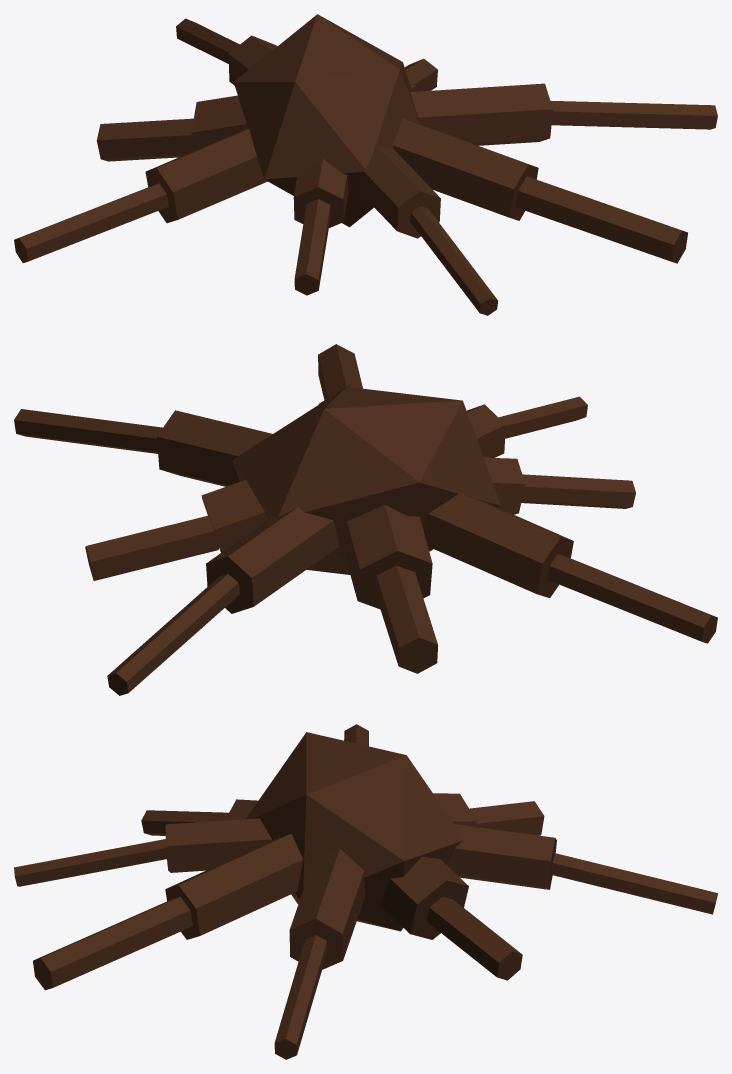
File: root_cluster_b.glb
3 views of the same model, one above another, from view 1: azimuth 30°, elevation 25°; view 2: azimuth 150°, elevation 25°; view 3: azimuth 270°, elevation 25° (orthographic). The views are drawn at different scales.
Visible parts, largest first — view 1: Root_Knot.001, Root_8_A.001, Root_1_A.001, Root_5_A.001, Root_8_B.001, Root_7_A.001, Root_5_B.001, Root_1_B.001, Root_4_B.001, Root_7_B.001, Root_6_A.001, Root_6_B.001 (+4 smaller); view 2: Root_Knot.001, Root_5_A.001, Root_3_A.001, Root_4_A.001, Root_1_A.001, Root_5_B.001, Root_2_B.001, Root_4_B.001, Root_3_B.001, Root_1_B.001, Root_6_B.001, Root_2_A.001 (+4 smaller); view 3: Root_Knot.001, Root_8_A.001, Root_1_A.001, Root_8_B.001, Root_3_A.001, Root_7_A.001, Root_2_A.001, Root_3_B.001, Root_2_B.001, Root_7_B.001, Root_1_B.001, Root_4_B.001 (+2 smaller).
Boxes of the visible parts, x1=… form: Root_Knot.001: x1=233, y1=14, x2=420, y2=227; Root_8_A.001: x1=393, y1=119, x2=538, y2=220; Root_1_A.001: x1=410, y1=83, x2=552, y2=145; Root_5_A.001: x1=145, y1=128, x2=267, y2=223; Root_8_B.001: x1=515, y1=176, x2=687, y2=263; Root_7_A.001: x1=355, y1=146, x2=440, y2=238; Root_5_B.001: x1=14, y1=183, x2=168, y2=262; Root_1_B.001: x1=550, y1=100, x2=717, y2=129; Root_4_B.001: x1=96, y1=118, x2=196, y2=161; Root_7_B.001: x1=410, y1=206, x2=497, y2=315; Root_6_A.001: x1=293, y1=158, x2=348, y2=227; Root_6_B.001: x1=294, y1=199, x2=330, y2=295; Root_Knot.001: x1=232, y1=387, x2=500, y2=574; Root_5_A.001: x1=423, y1=492, x2=573, y2=597; Root_3_A.001: x1=206, y1=507, x2=338, y2=613; Root_4_A.001: x1=345, y1=505, x2=432, y2=609; Root_1_A.001: x1=157, y1=410, x2=272, y2=486; Root_5_B.001: x1=547, y1=554, x2=717, y2=643; Root_2_B.001: x1=85, y1=515, x2=218, y2=580; Root_4_B.001: x1=375, y1=565, x2=437, y2=673; Root_3_B.001: x1=107, y1=574, x2=239, y2=695; Root_1_B.001: x1=14, y1=409, x2=162, y2=453; Root_6_B.001: x1=521, y1=474, x2=635, y2=508; Root_2_A.001: x1=201, y1=480, x2=267, y2=552; Root_Knot.001: x1=245, y1=732, x2=463, y2=931; Root_8_A.001: x1=165, y1=833, x2=303, y2=939; Root_1_A.001: x1=289, y1=848, x2=365, y2=969; Root_8_B.001: x1=33, y1=896, x2=192, y2=990; Root_3_A.001: x1=447, y1=824, x2=556, y2=889; Root_7_A.001: x1=165, y1=818, x2=271, y2=872; Root_2_A.001: x1=379, y1=856, x2=468, y2=939; Root_3_B.001: x1=551, y1=853, x2=717, y2=914; Root_2_B.001: x1=426, y1=896, x2=522, y2=980; Root_7_B.001: x1=14, y1=839, x2=166, y2=886; Root_1_B.001: x1=274, y1=935, x2=327, y2=1059; Root_4_B.001: x1=469, y1=801, x2=544, y2=835.
Size of the model in its own units: 3.07 by 0.746 by 2.91.
